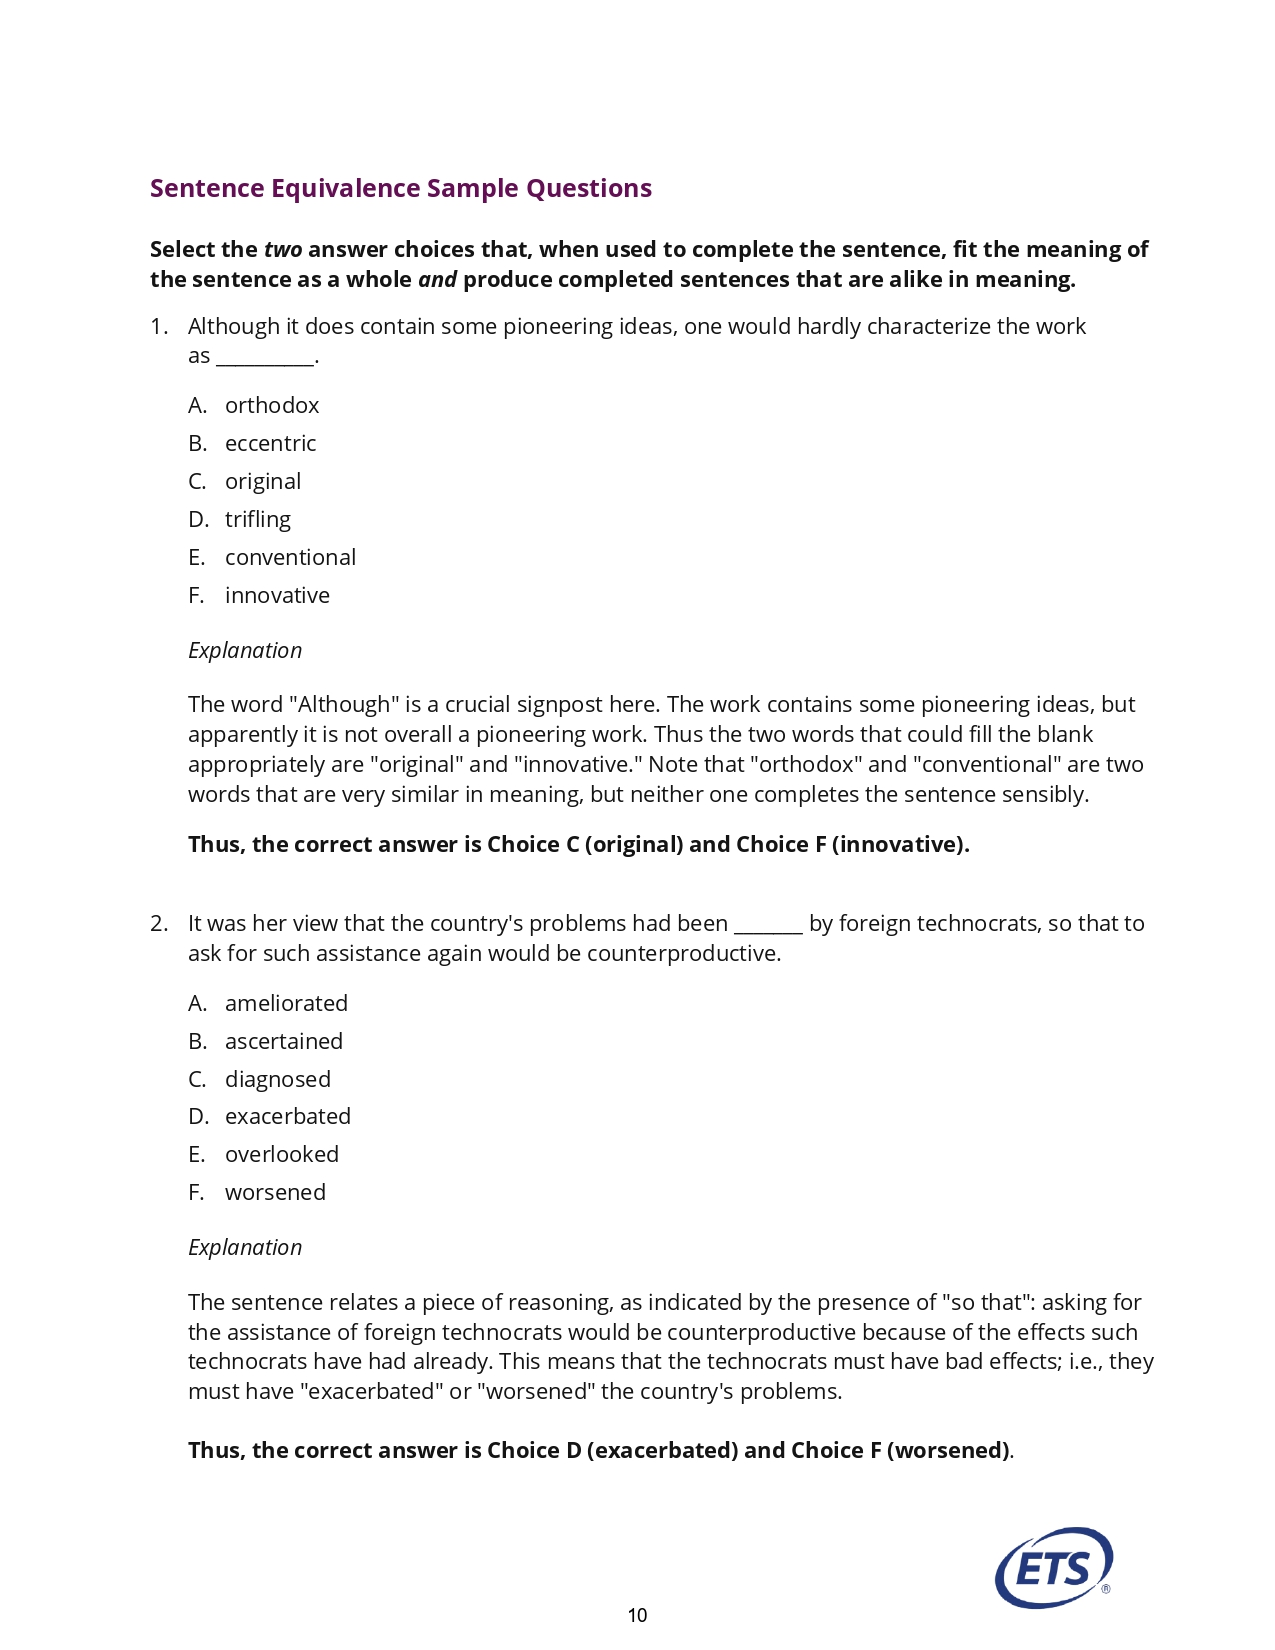Image: (965, 1511, 1128, 1611)
Number: (612, 1597, 674, 1626), (140, 305, 176, 339), (143, 907, 169, 940)
Text: (186, 1284, 1153, 1407), (168, 691, 1150, 808), (140, 227, 1160, 299), (183, 901, 1155, 976), (186, 306, 1098, 372), (179, 1425, 1037, 1474), (181, 823, 1002, 869), (141, 165, 675, 209), (163, 637, 321, 671), (186, 1227, 309, 1269), (221, 987, 361, 1020), (222, 1173, 332, 1215), (222, 1062, 345, 1098), (217, 1028, 355, 1059), (209, 582, 344, 613), (219, 382, 334, 418), (221, 427, 331, 463), (222, 1138, 340, 1171), (219, 1104, 360, 1130), (217, 546, 368, 570), (219, 505, 294, 533), (219, 470, 308, 491), (181, 386, 212, 423), (184, 987, 212, 1020), (178, 1176, 209, 1205), (183, 500, 209, 534), (183, 1023, 211, 1054), (183, 465, 209, 498), (181, 1066, 209, 1094), (178, 1140, 207, 1166), (181, 1104, 209, 1130), (184, 538, 205, 571), (183, 432, 207, 458), (188, 580, 206, 611)
